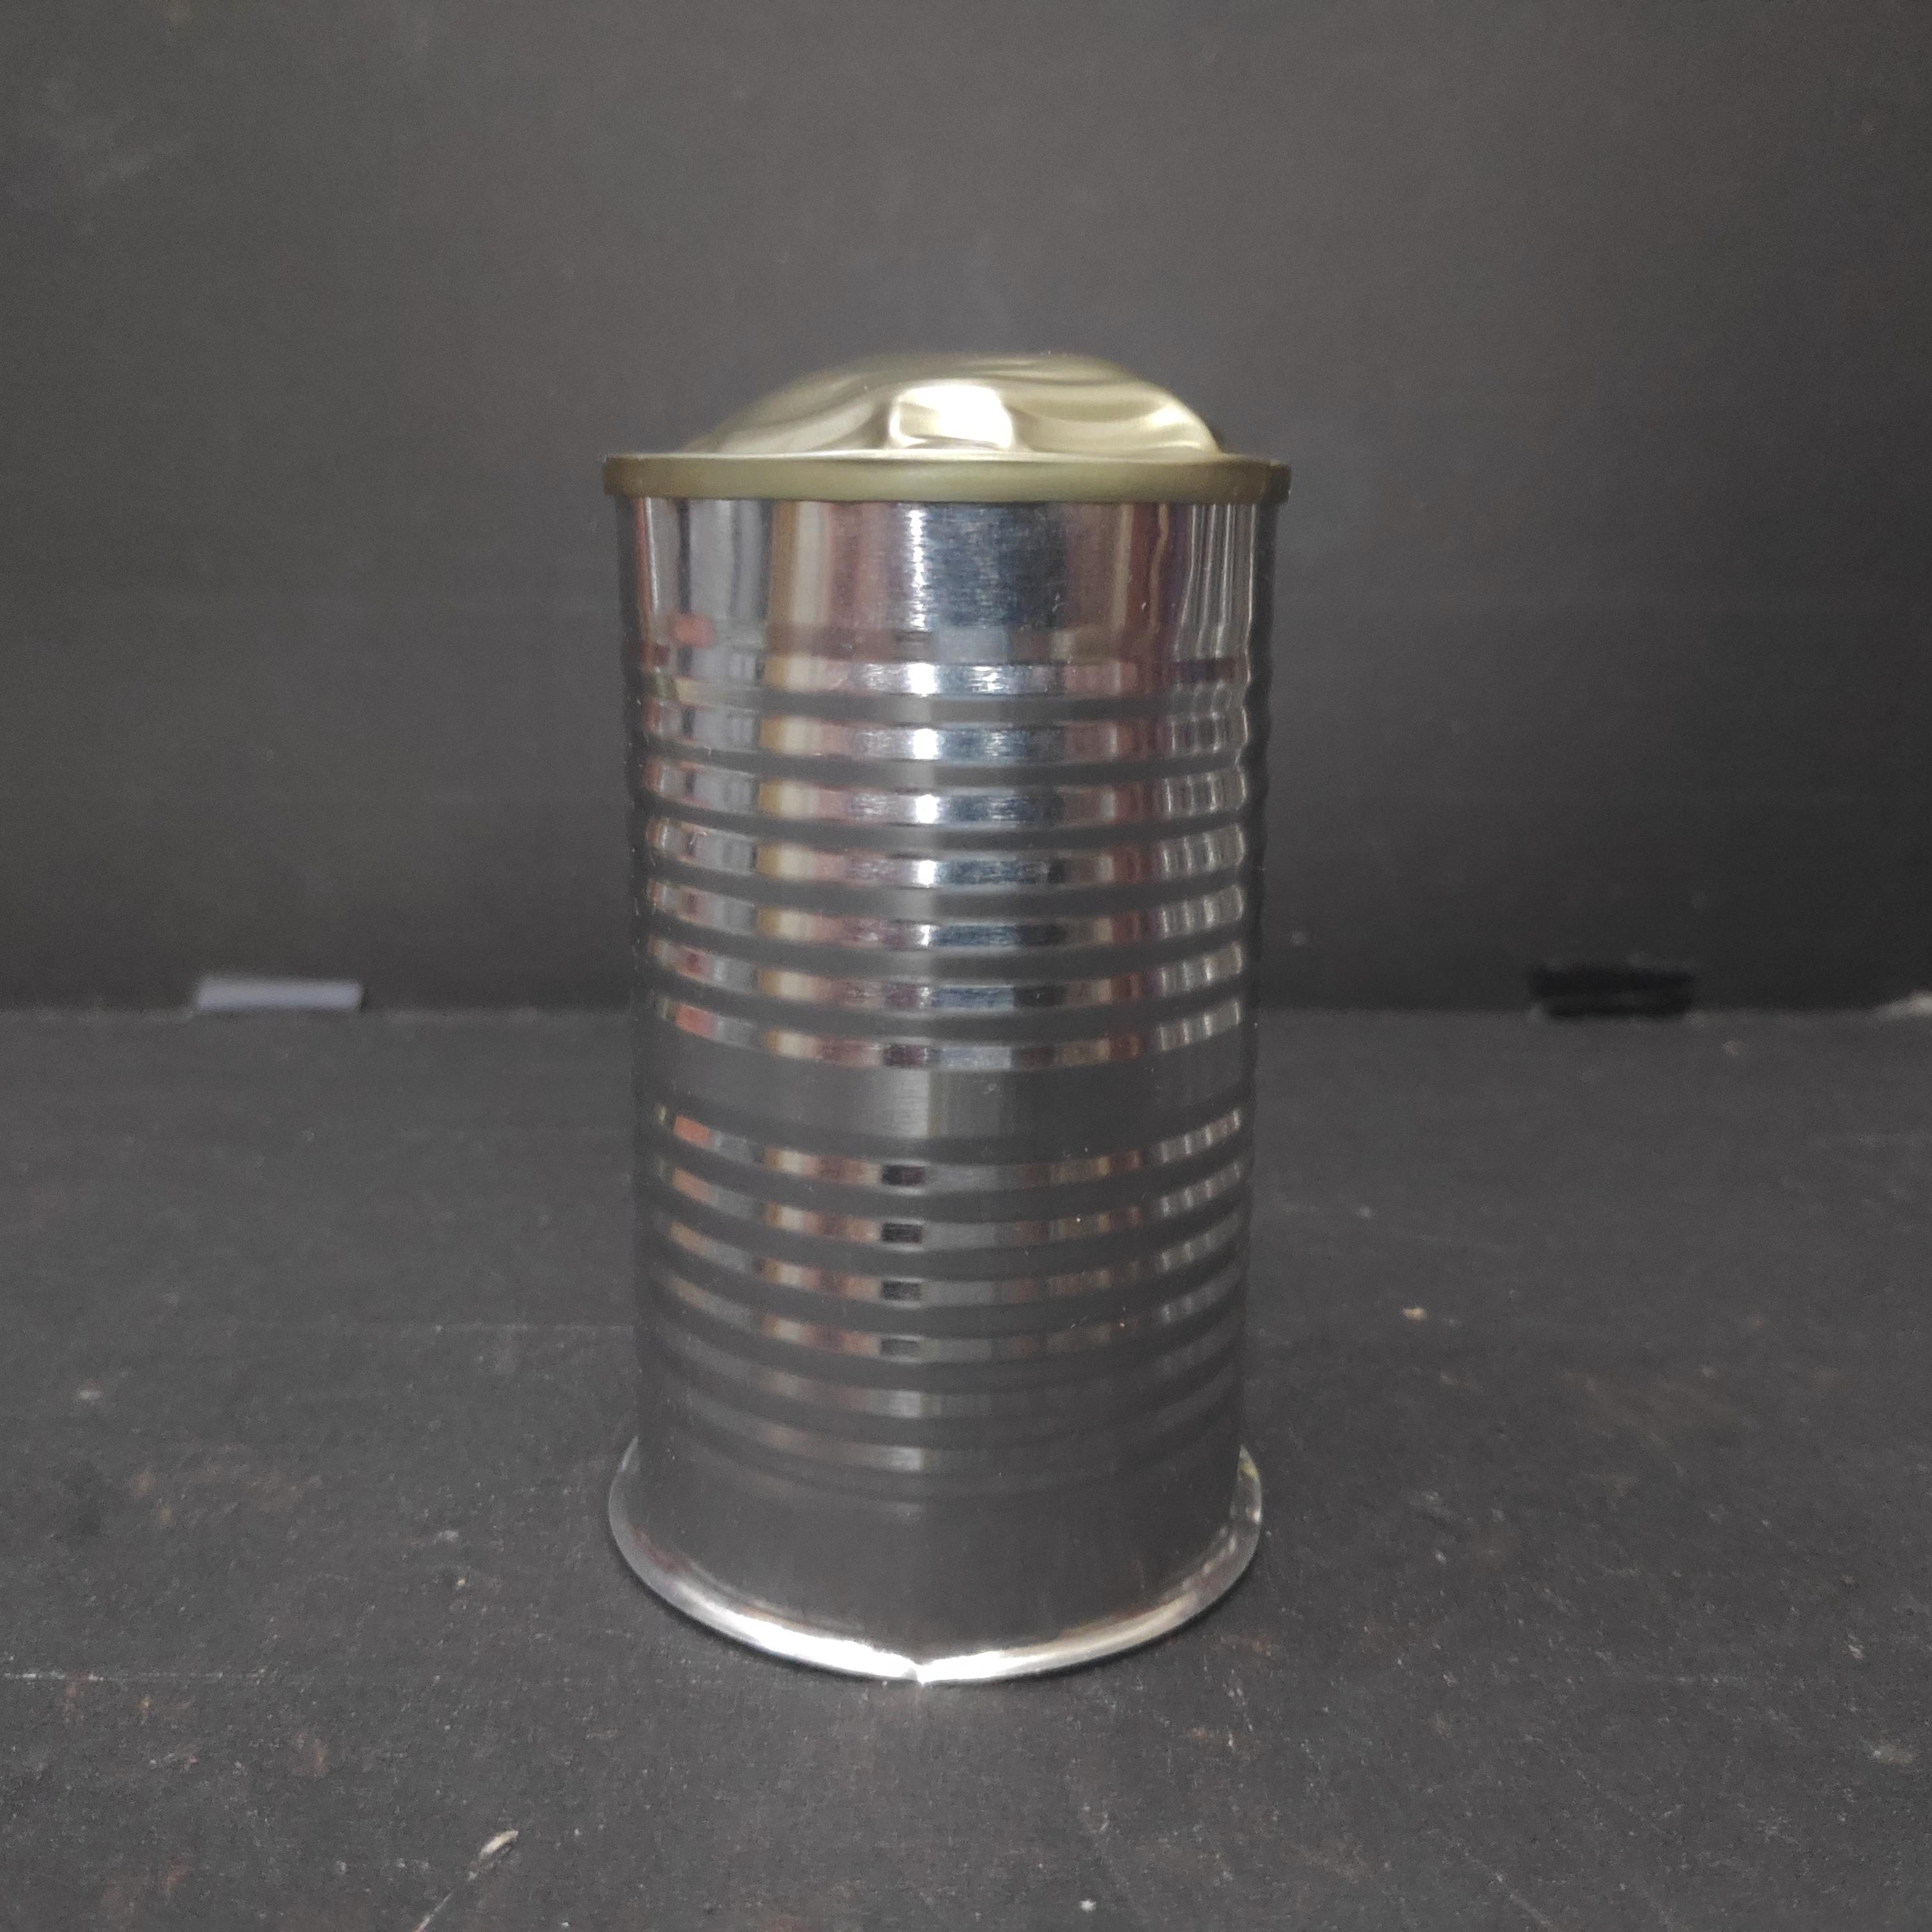Critical Defect: (594, 340, 1293, 1693)
